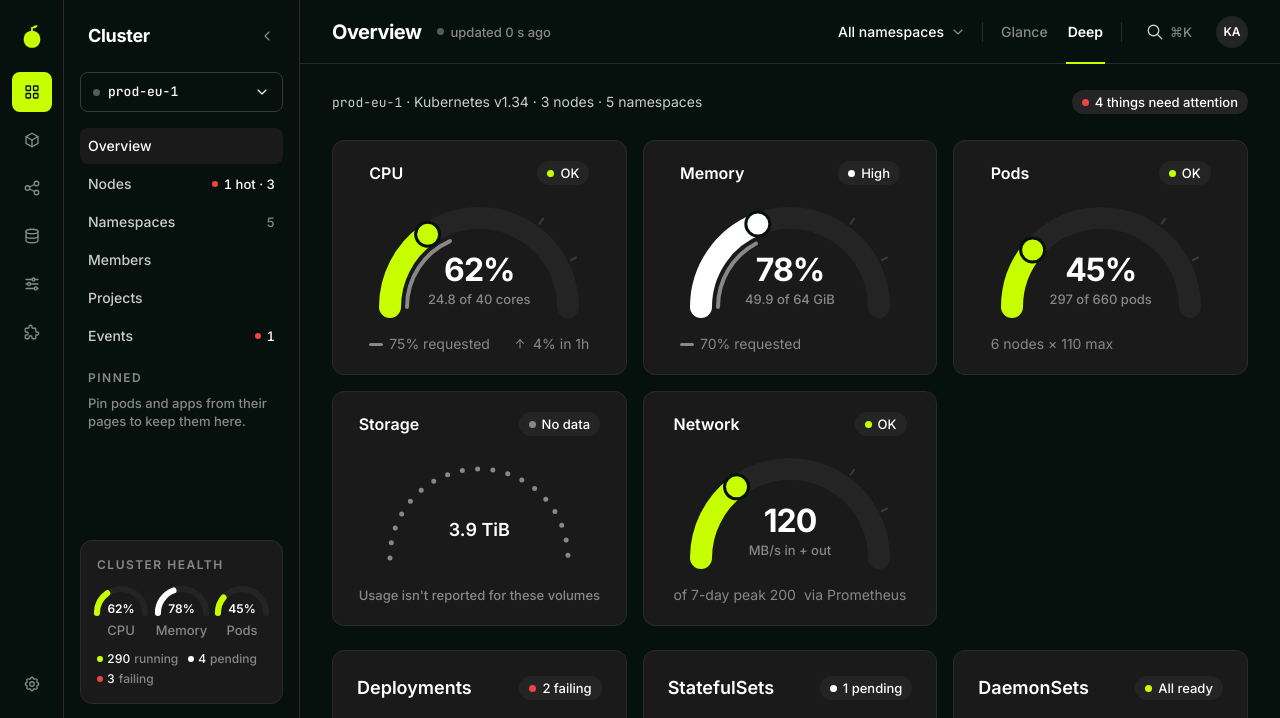
Command palette › opens with ⌘K and goes to a page
The width and height of the screenshot is (1280, 718).
Type keys "{Meta>}k{/Meta}"
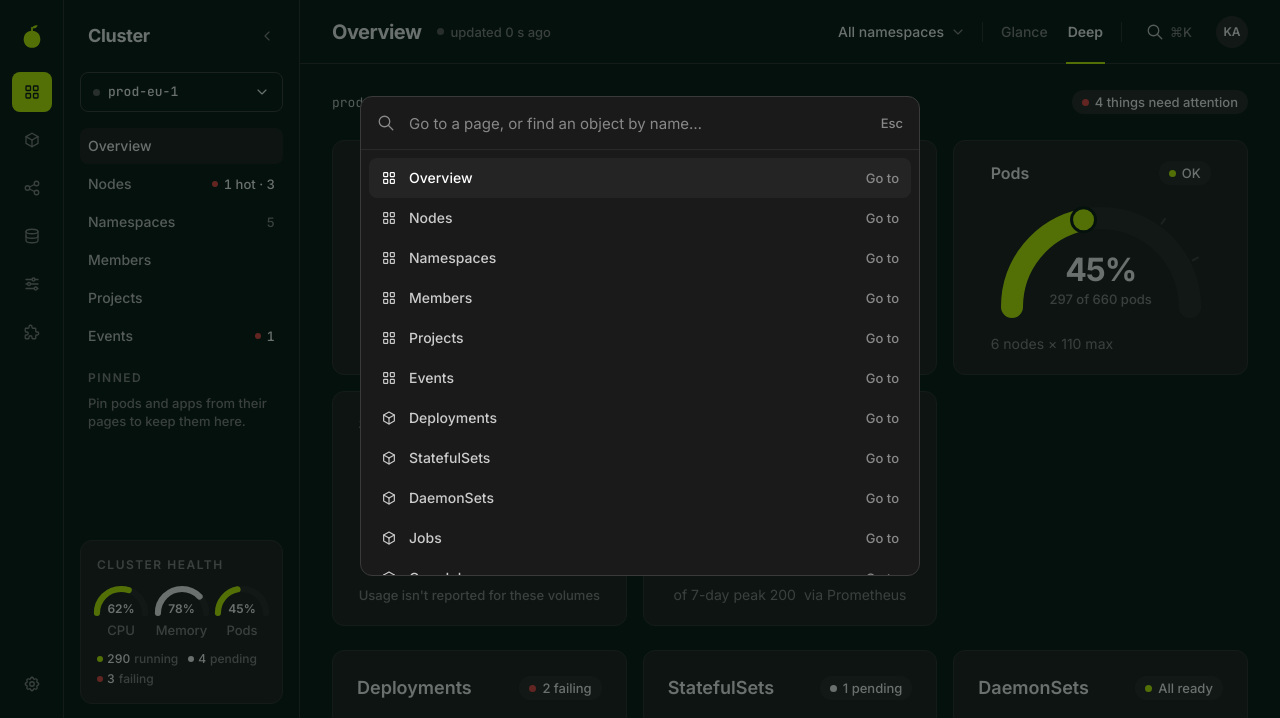
Type "nodes" into the dropdown named "Search pages, commands and objects".
click(638, 123); type("nodes")  # box [407,97,869,149]
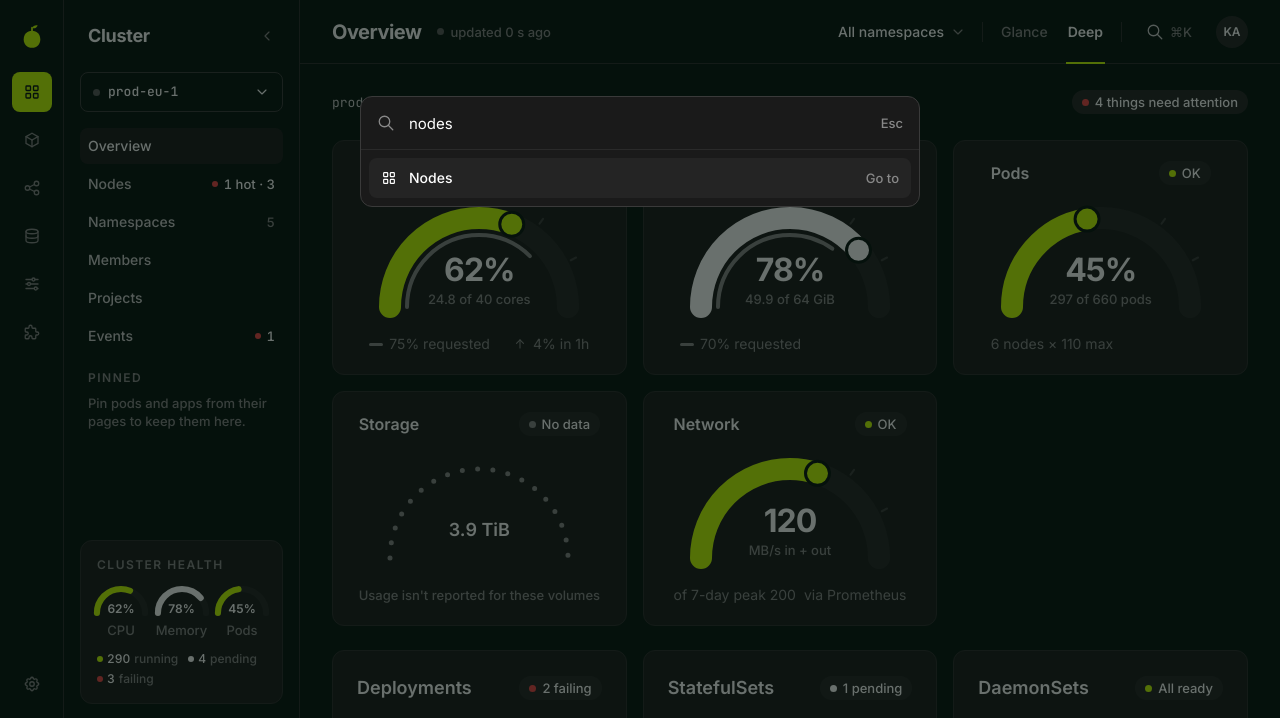
Expected: the option "Nodes Go to" is selected, [369,158,911,198]
Press Enter
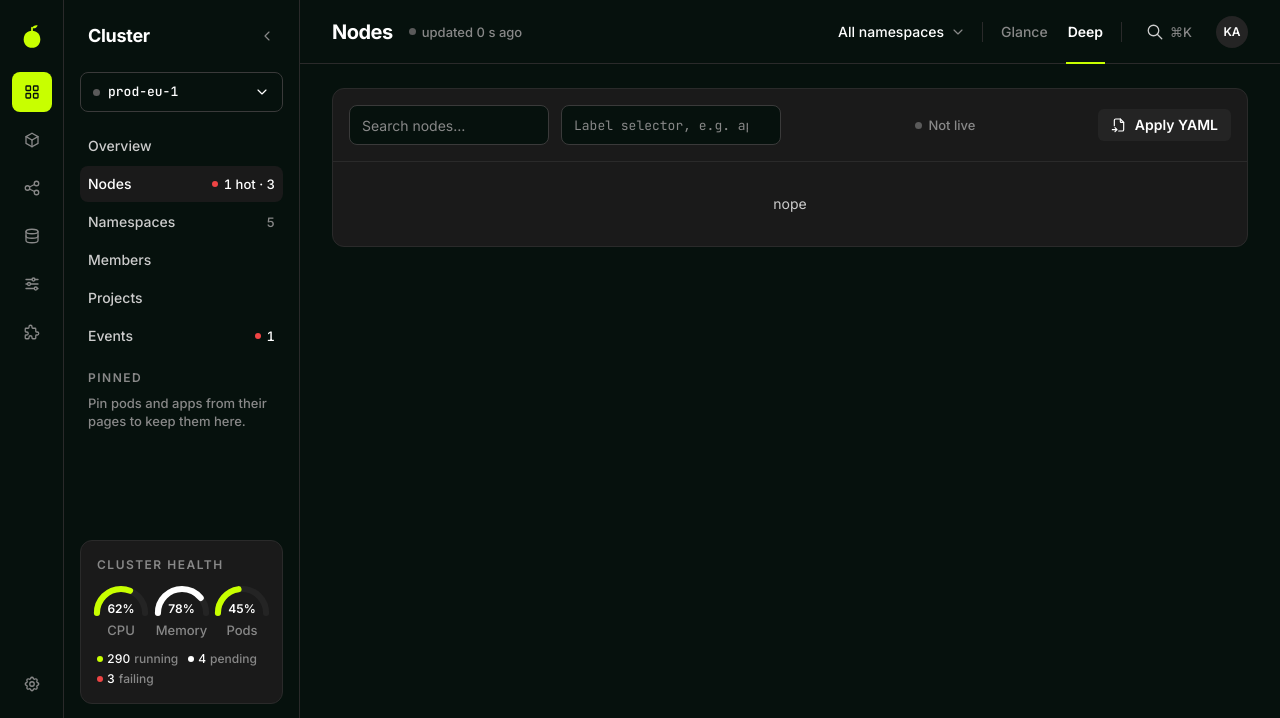
Expected: the heading "Nodes" is shown, [332,18,393,46]
